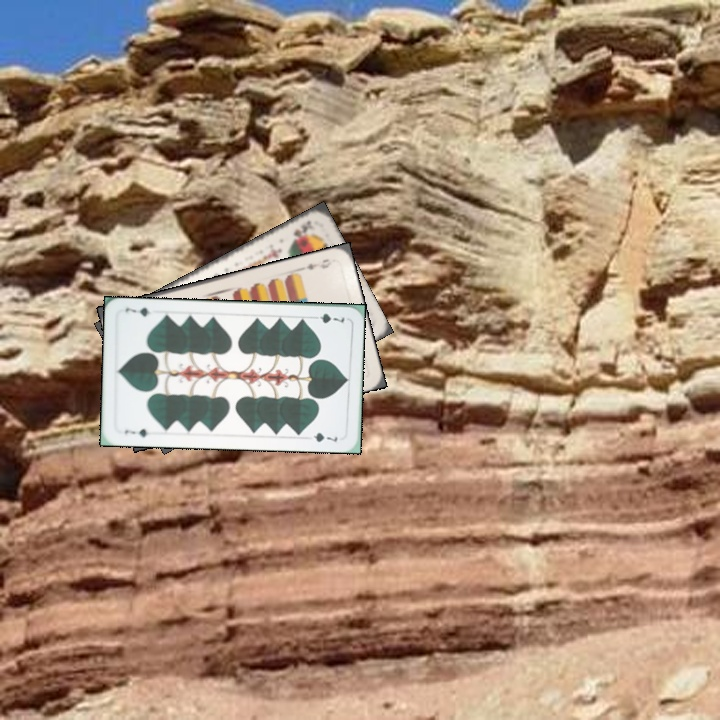E9: (297, 255, 334, 273)
G7: (308, 309, 347, 326), (121, 425, 151, 440)
SK: (287, 216, 316, 244)
